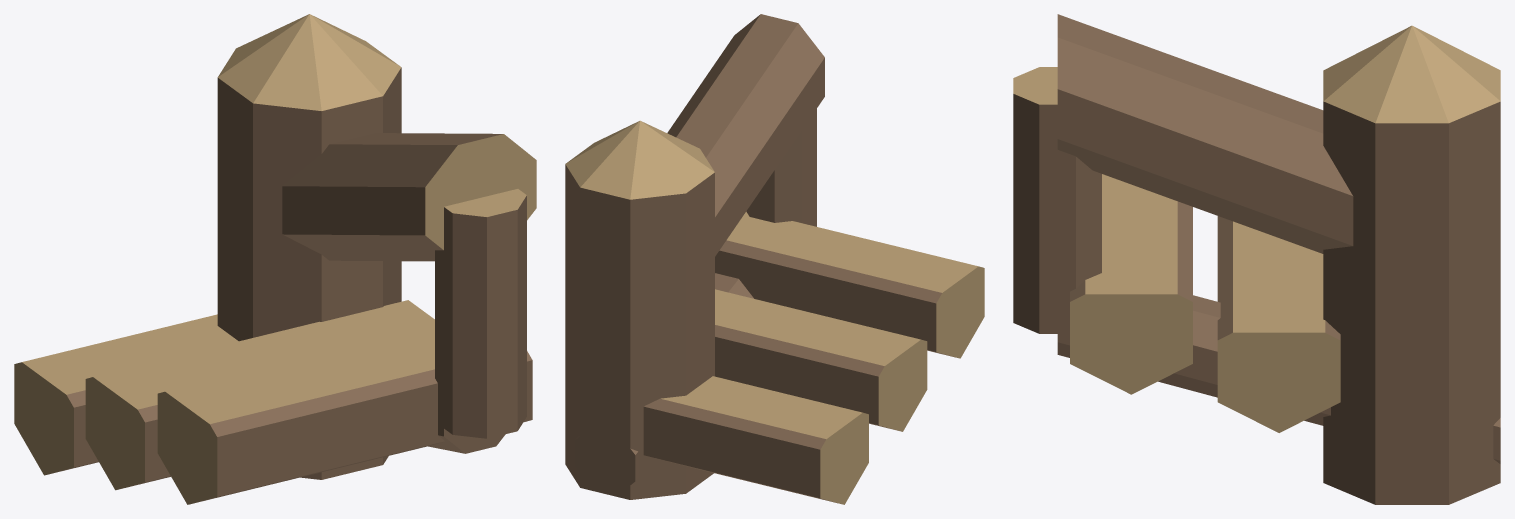
Rendered from Prop_Bridge_Log_End_Edge_Left.obj.
3 renders of one model, left to right at view 1: azimuth 30°, elevation 25°; view 2: azimuth 150°, elevation 25°; view 3: azimuth 270°, elevation 25°, orthographic. The views are drawn at different scales.
Visible parts, largest first — view 1: object4, object7, object2, object3, object6, object5, object1; view 2: object4, object7, object5, object6, object2, object3, object1; view 3: object4, object2, object6, object7, object3, object1.
Part boxes in pixels (x1=…): object4: x1=217, y1=14, x2=401, y2=479; object7: x1=157, y1=326, x2=532, y2=504; object2: x1=282, y1=133, x2=536, y2=261; object3: x1=435, y1=189, x2=526, y2=438; object6: x1=85, y1=300, x2=434, y2=490; object5: x1=14, y1=314, x2=238, y2=475; object1: x1=428, y1=403, x2=505, y2=453; object4: x1=565, y1=120, x2=714, y2=499; object7: x1=715, y1=211, x2=984, y2=358; object5: x1=643, y1=376, x2=868, y2=504; object6: x1=715, y1=289, x2=927, y2=431; object2: x1=667, y1=14, x2=824, y2=256; object3: x1=746, y1=109, x2=816, y2=226; object1: x1=575, y1=273, x2=753, y2=495; object4: x1=1323, y1=25, x2=1500, y2=504; object2: x1=1057, y1=14, x2=1353, y2=253; object6: x1=1217, y1=216, x2=1340, y2=432; object7: x1=1070, y1=174, x2=1192, y2=394; object3: x1=1013, y1=67, x2=1101, y2=333; object1: x1=1057, y1=295, x2=1500, y2=463.
Bounding box in the file's own units: 0.8967 × 1.1 × 1.1.
